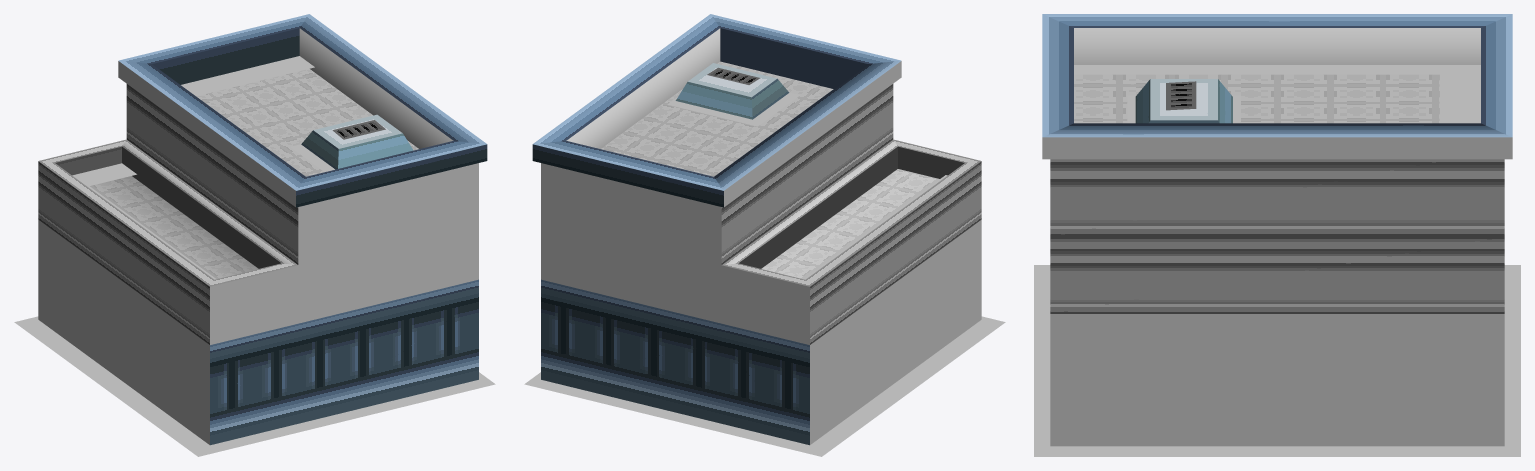
Rendered from Nimbasa City Building 2.obj.
3 views of the same model, side by side, from view 1: azimuth 30°, elevation 25°; view 2: azimuth 150°, elevation 25°; view 3: azimuth 270°, elevation 25° (orthographic). The views are drawn at different scales.
Parts seen in each view (by area): view 1: polygon6, polygon3, polygon4, polygon1, polygon0, polygon7, polygon5; view 2: polygon6, polygon3, polygon4, polygon1, polygon0, polygon7, polygon5; view 3: polygon4, polygon1, polygon6, polygon5, polygon0, polygon7.
Part boxes in pixels (<box>): polygon6: <box>118,14,487,445</box>; polygon3: <box>210,163,478,344</box>; polygon4: <box>38,28,453,444</box>; polygon1: <box>38,84,298,344</box>; polygon0: <box>90,69,418,278</box>; polygon7: <box>38,114,413,286</box>; polygon5: <box>14,56,495,456</box>; polygon6: <box>532,14,901,445</box>; polygon3: <box>541,163,809,344</box>; polygon4: <box>566,28,981,444</box>; polygon1: <box>721,84,981,344</box>; polygon0: <box>601,61,939,278</box>; polygon7: <box>675,63,981,286</box>; polygon5: <box>524,92,1005,456</box>; polygon4: <box>1042,28,1512,446</box>; polygon1: <box>1050,159,1504,313</box>; polygon6: <box>1042,14,1512,137</box>; polygon5: <box>1034,65,1520,456</box>; polygon0: <box>1074,74,1439,123</box>; polygon7: <box>1135,79,1232,123</box>.
Bounding box in the file's own units: 112 × 86 × 120.
